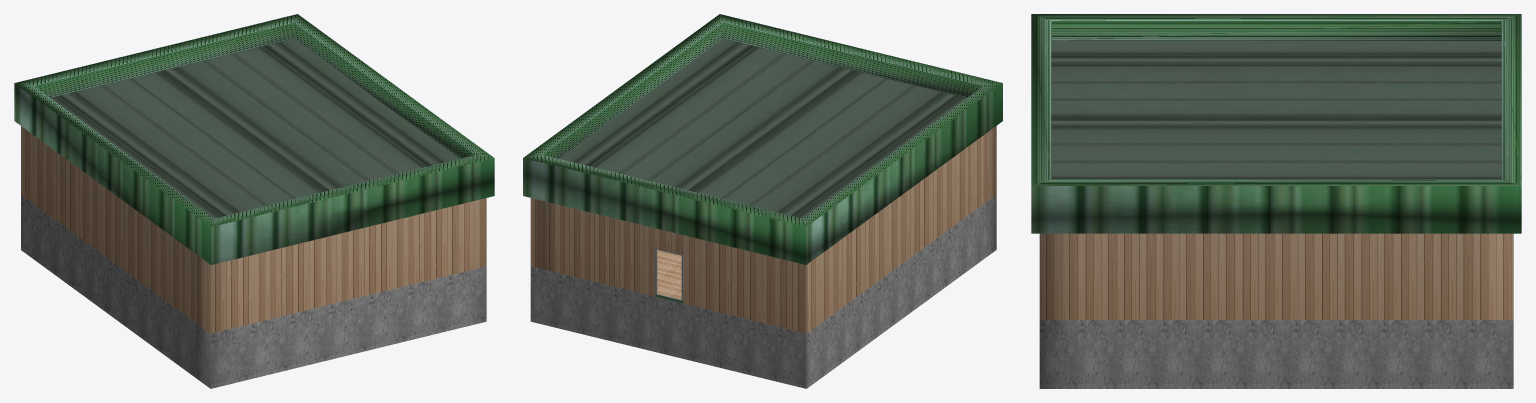
The model's file is Bank.glb.
The picture shows the model from 3 angles, left to right: view 1: azimuth 30°, elevation 25°; view 2: azimuth 150°, elevation 25°; view 3: azimuth 270°, elevation 25°; orthographic projection. The views are drawn at different scales.
Visible parts, largest first — view 1: Bank.002; view 2: Bank.002; view 3: Bank.002.
Part boxes in pixels (x1,y1,x2,y2): Bank.002: [14, 14, 494, 388]; Bank.002: [523, 14, 1002, 388]; Bank.002: [1031, 14, 1521, 388].
Size of the model in its own units: 15.59 by 8.68 by 18.76.
2 materials, 1 textured.
